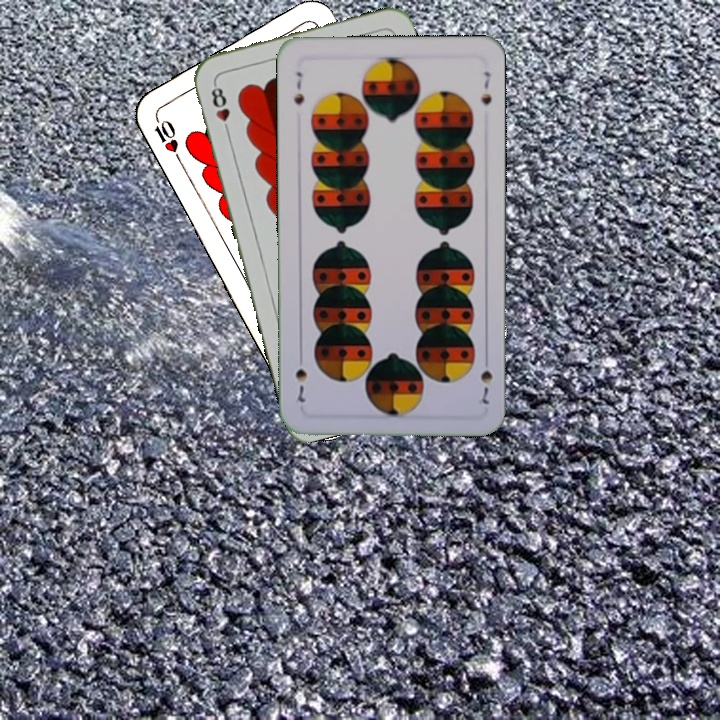H10: (150, 111, 185, 166)
H8: (207, 79, 233, 137)
S7: (476, 351, 495, 407), (290, 68, 307, 108)
